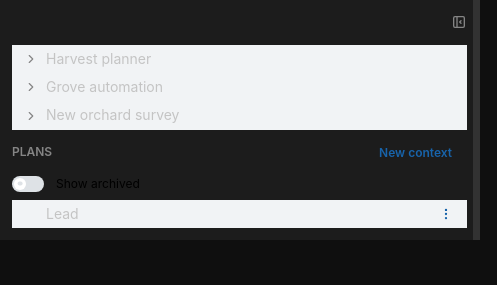
it: Sidebar › L4: archive/unarchive › shows archived rows, dimmed, once "Show archived" is switched on
Expected: the element with test id "thread-1" is shown, x1=12 y1=200 x2=467 y2=228
Click the switch with test id "show-archived-toggle": (76, 184) x1=12 y1=176 x2=140 y2=192
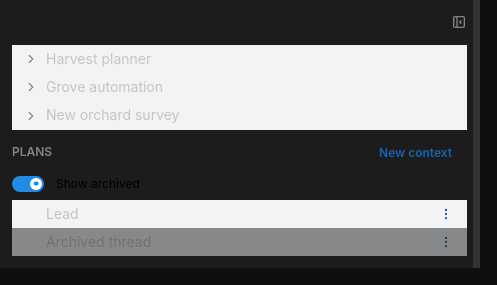
Result: the element with test id "thread-16" is shown at x1=12 y1=228 x2=467 y2=256
